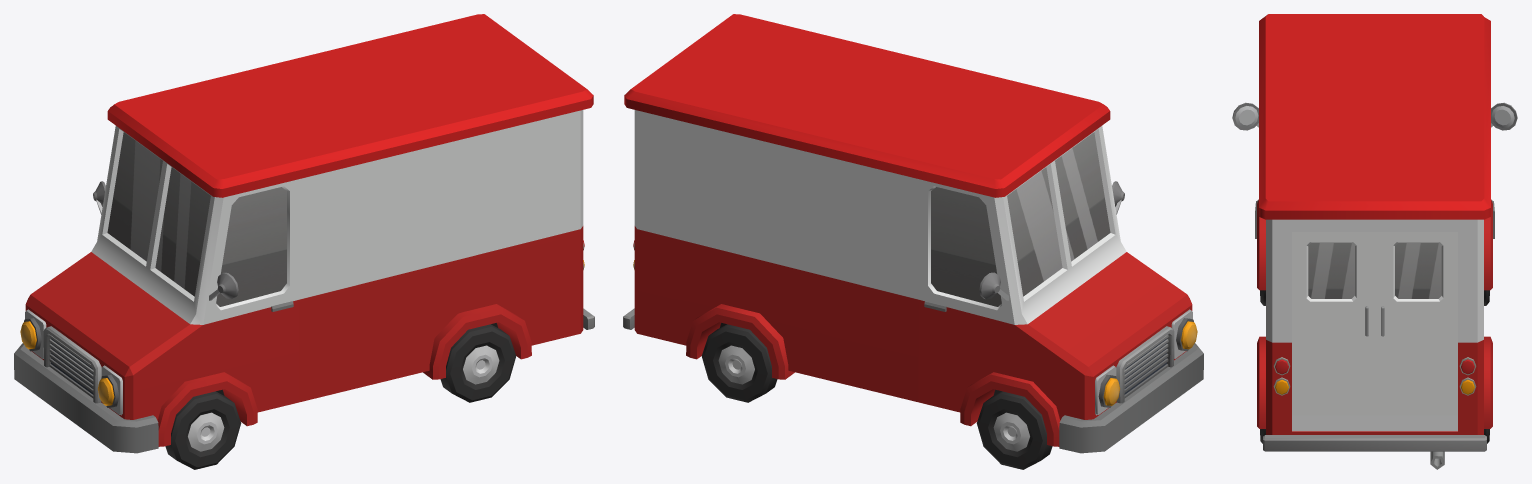
The model's file is Car_16_B.gltf.
The picture shows the model from 3 angles, left to right: view 1: azimuth 30°, elevation 25°; view 2: azimuth 150°, elevation 25°; view 3: azimuth 270°, elevation 25°; orthographic projection. The views are drawn at different scales.
Visible parts, largest first — view 1: Car_16_B, RL, FL; view 2: Car_16_B, RR, FR; view 3: Car_16_B.
Boxes of the visible parts, left/top/right/bottom form: Car_16_B: left=14, top=14, right=594, bottom=453; RL: left=440, top=324, right=516, bottom=402; FL: left=165, top=391, right=241, bottom=469; Car_16_B: left=623, top=14, right=1203, bottom=453; RR: left=701, top=324, right=777, bottom=402; FR: left=976, top=391, right=1052, bottom=469; Car_16_B: left=1232, top=14, right=1517, bottom=469.
Bounding box in the file's own units: 3.66 × 2.04 × 1.8.
Materials: 4 (4 with a texture image).
